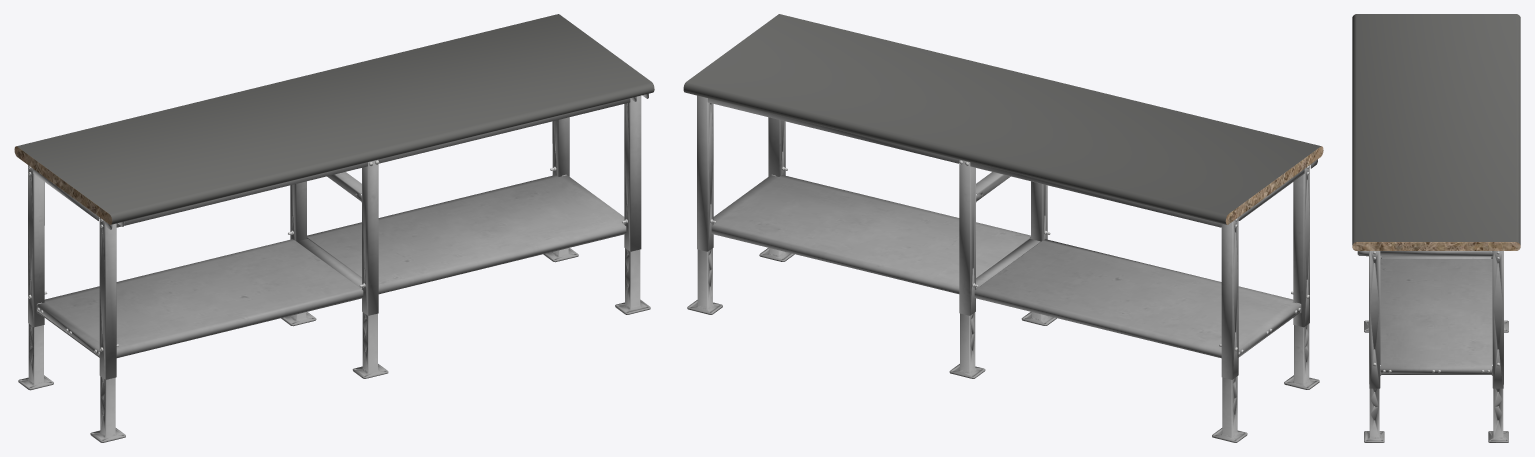
File: warehouse_packingTable_heavyDuty_c02.glb
The picture shows the model from 3 angles, left to right: view 1: azimuth 30°, elevation 25°; view 2: azimuth 150°, elevation 25°; view 3: azimuth 270°, elevation 25°; orthographic projection. The views are drawn at different scales.
Visible parts, largest first — view 1: warehouse_packingTable_heavyDuty_c02_mesh_00.001; view 2: warehouse_packingTable_heavyDuty_c02_mesh_00.001; view 3: warehouse_packingTable_heavyDuty_c02_mesh_00.001.
Part boxes in pixels (left/top/right/bottom): warehouse_packingTable_heavyDuty_c02_mesh_00.001: left=14, top=14, right=654, bottom=442; warehouse_packingTable_heavyDuty_c02_mesh_00.001: left=683, top=14, right=1323, bottom=442; warehouse_packingTable_heavyDuty_c02_mesh_00.001: left=1352, top=14, right=1520, bottom=442.
Size of the model in its own units: 2.47 by 0.9936 by 0.7615.
Materials: 4 (4 with a texture image).
